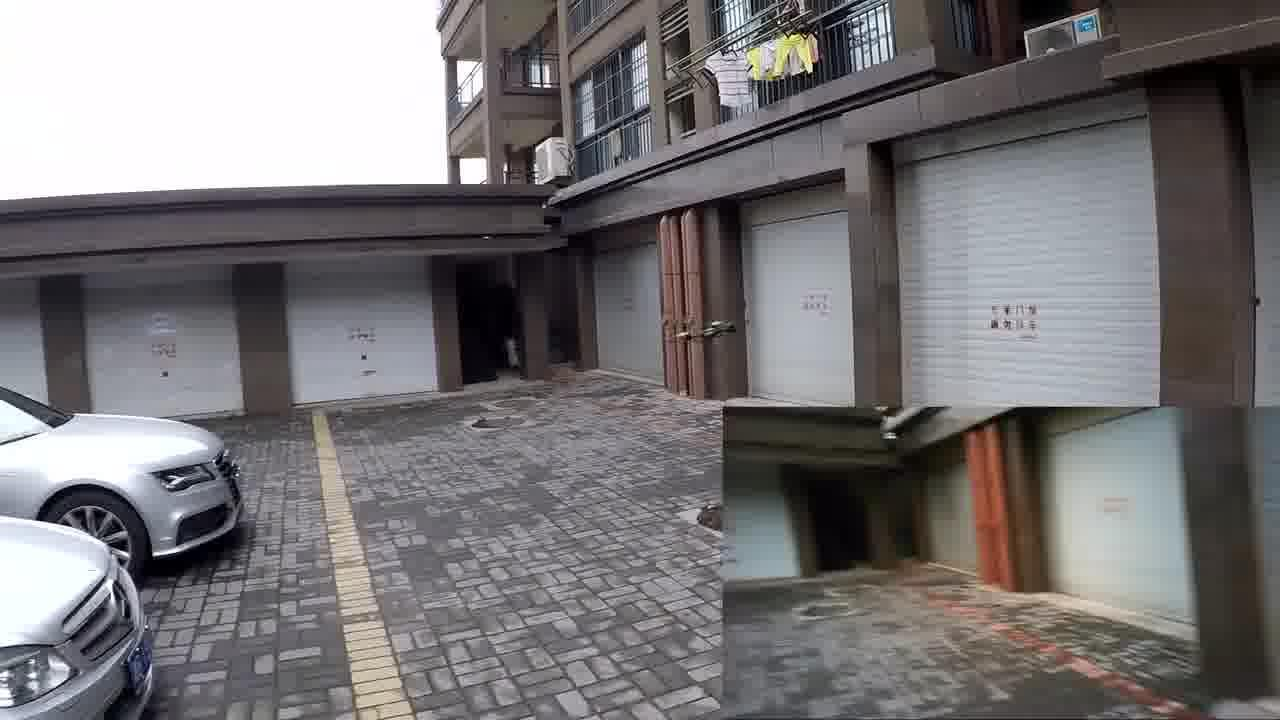drone: (658, 313, 740, 346)
